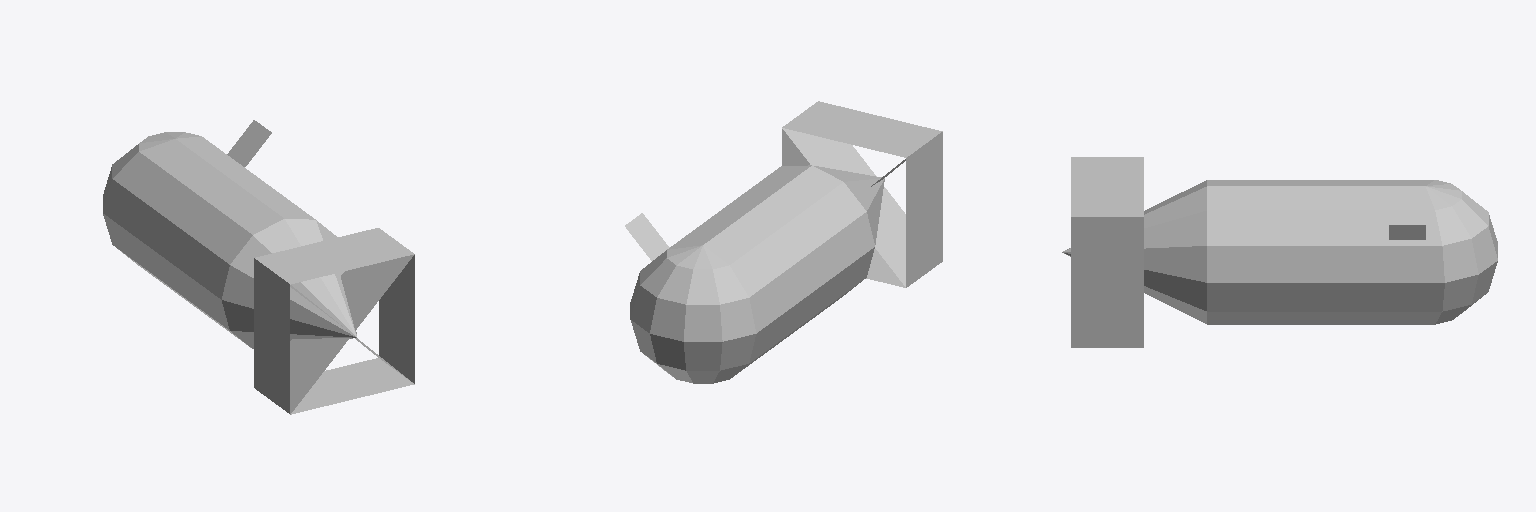
Rendered from little_boy.obj.
The picture shows the model from 3 angles: view 1: azimuth 30°, elevation 25°; view 2: azimuth 150°, elevation 25°; view 3: azimuth 270°, elevation 25°; orthographic projection.
Parts seen in each view (by area): view 1: body, stabilizer, inner_stabilizer2, stabilizer2, decoration; view 2: body, stabilizer, inner_stabilizer2, stabilizer2, decoration; view 3: body, stabilizer, stabilizer2, decoration.
Boxes of the visible parts, box(x1,y1,x2,y2) form: body: box(103, 132, 356, 348); stabilizer: box(254, 228, 414, 413); inner_stabilizer2: box(290, 254, 414, 414); stabilizer2: box(254, 228, 414, 414); decoration: box(227, 120, 271, 166); body: box(630, 165, 884, 383); stabilizer: box(782, 101, 942, 287); inner_stabilizer2: box(782, 128, 905, 286); stabilizer2: box(782, 101, 942, 287); decoration: box(625, 213, 669, 260); body: box(1062, 180, 1497, 324); stabilizer: box(1071, 157, 1143, 347); stabilizer2: box(1071, 157, 1143, 347); decoration: box(1389, 225, 1425, 239).
Size of the model in its own units: 1.12 by 1 by 3.